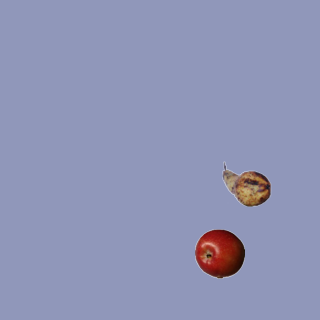Apple Braeburn: (194, 228, 244, 278)
Pear Abate: (221, 159, 271, 209)
